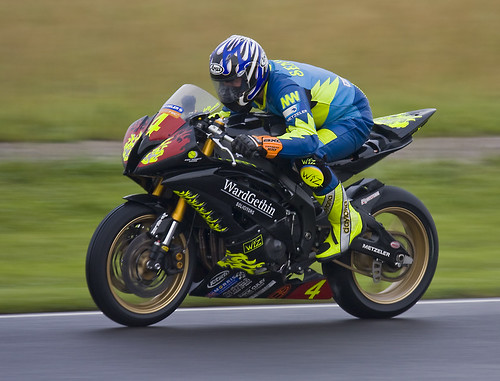helmet: (205, 34, 275, 102)
